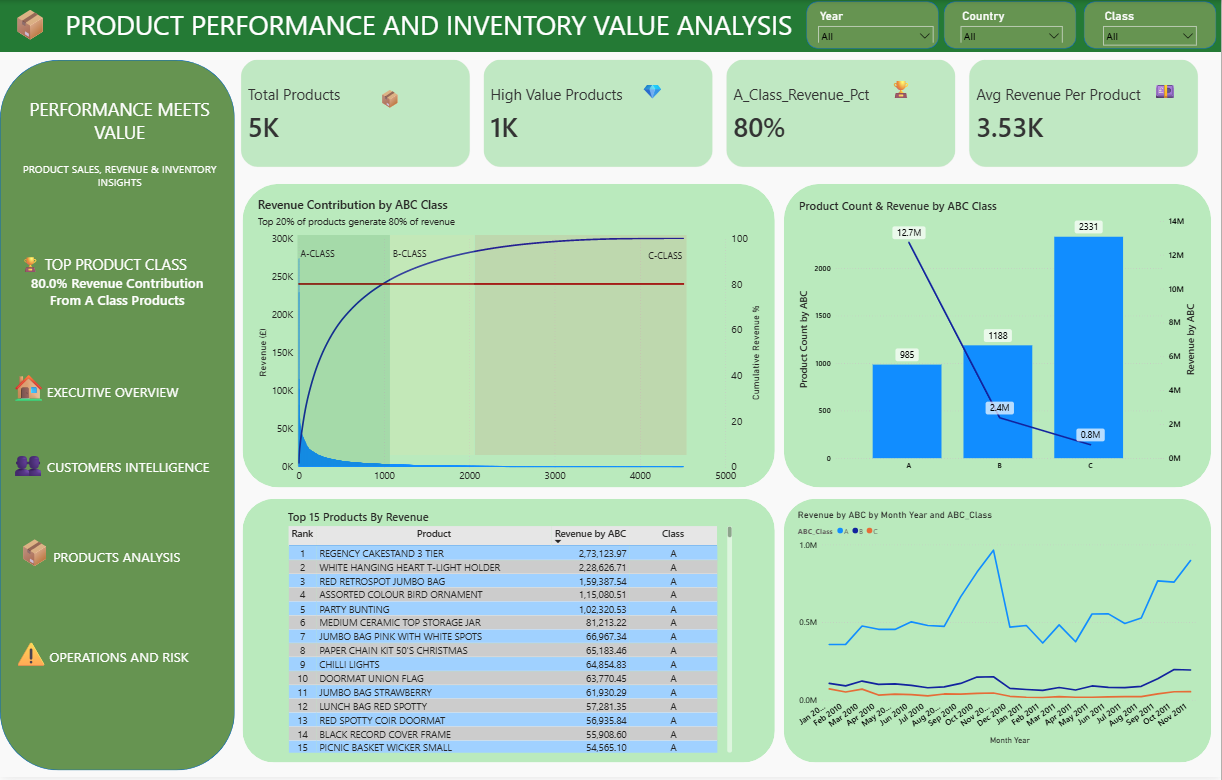

What the dashboard file says about the page in this screenshot:
{"tool":"powerbi","page":{"name":"Product Analysis","canvas":[2200,1400],"ordinal":2},"visuals":[{"type":"textbox","box":[0,0,2200.4,93.3],"z":0},{"type":"shape","box":[0,107.3,422.6,1278.7],"z":1000},{"type":"shape","box":[436.7,330.7,958.2,546.9],"z":2000},{"type":"shape","box":[436.7,898.8,958.2,474.9],"z":3000},{"type":"shape","box":[1409.7,330.7,769.5,546.9],"z":4000},{"type":"shape","box":[1411.8,898.8,769.5,474.9],"z":5000},{"type":"cardVisual","fields":{"Data":["_Measures.Total Unique Products","_Measures.High_Value_Products","_Measures.A_Class_Revenue_Pct","_Measures.Avg_Revenue_Per_Product"]},"box":[422.6,96.3,1745,214.6],"z":6000},{"type":"lineClusteredColumnComboChart","title":"Revenue Contribution by ABC Class","fields":{"Category":["vw_Product_ABC_Analysis.Product_Rank"],"Y":["Sum(vw_Product_ABC_Analysis.Total_Spent)"],"Y2":["Sum(vw_Product_ABC_Analysis.Cumulative_Percentages)","Dim_Date.Pareto 80% Line"]},"box":[460,354,915.8,523.6],"z":7000},{"type":"textbox","box":[536.4,422.6,166.4,416],"z":8000},{"type":"textbox","box":[702.8,422.6,151.1,396.3],"z":9000},{"type":"textbox","box":[853.9,422.6,381,396.3],"z":10000},{"type":"tableEx","title":"Top 15 Products By Revenue","fields":{"Values":["vw_Product_ABC_Analysis.Product_Rank","vw_Product_ABC_Analysis.Description","Dim_Country.Revenue by ABC","vw_Product_ABC_Analysis.ABC_Class"]},"box":[512.3,915.2,810.1,444.5],"z":11000},{"type":"lineClusteredColumnComboChart","title":"Product Count & Revenue by ABC Class","fields":{"Category":["vw_Product_ABC_Analysis.ABC_Class"],"Y":["Dim_Country.Product Count by ABC"],"Y2":["Dim_Country.Revenue by ABC"]},"box":[1434.1,354.7,729.1,501.4],"z":12000},{"type":"textbox","box":[30.7,168.6,367.8,118.2],"z":13000},{"type":"textbox","box":[30.7,286.8,367.8,67.9],"z":14000},{"type":"textbox","box":[17.5,1134.2,372.2,96.3],"z":15000},{"type":"textbox","box":[24.1,954.6,356.9,94.1],"z":16000},{"type":"textbox","box":[14.5,792.5,410.8,93.4],"z":17000},{"type":"textbox","box":[14.5,657.7,373.4,83],"z":18000},{"type":"textbox","box":[30.7,453.2,359.1,120.4],"z":19000},{"type":"shape","box":[1451.6,2.2,238.7,85.4],"z":20000},{"type":"shape","box":[1699,2.2,238.7,85.4],"z":21000},{"type":"shape","box":[1950.8,2.2,238.7,85.4],"z":22000},{"type":"slicer","fields":{"Values":["Dim_Date.Year"]},"box":[1462.6,10.9,227.7,65.7],"z":23000},{"type":"slicer","fields":{"Values":["Dim_Country.Country"]},"box":[1718.8,10.9,203.6,65.7],"z":24000},{"type":"slicer","fields":{"Values":["vw_Product_ABC_Analysis.ABC_Class"]},"box":[1974.9,10.9,188.3,76.6],"z":25000},{"type":"textbox","box":[674.4,133.6,56.9,70.1],"z":26000},{"type":"textbox","box":[1147.3,133.6,63.5,70.1],"z":27000},{"type":"textbox","box":[1596.1,133.6,76.6,70.1],"z":28000},{"type":"textbox","box":[2069.1,133.6,76.6,70.1],"z":29000},{"type":"lineChart","fields":{"Category":["Dim_Date.Month Year"],"Series":["vw_Product_ABC_Analysis.ABC_Class"],"Y":["Dim_Country.Revenue by ABC"]},"box":[1431,915.7,729,429.7],"z":30000}]}

Visuals, with their boxes in screenshot pixels (x1, y1, x2, y2), scaled from the page's 2200x1400 canvas onto the 1222x780 screenshot:
textbox: (0,0,1221,52)
shape: (0,60,235,772)
shape: (243,184,775,489)
shape: (243,501,775,765)
shape: (783,184,1210,489)
shape: (784,501,1212,765)
cardVisual - _Measures.Total Unique Products x _Measures.High_Value_Products: (235,54,1204,173)
"Revenue Contribution by ABC Class" lineClusteredColumnComboChart: (256,197,764,489)
textbox: (298,235,390,467)
textbox: (390,235,474,456)
textbox: (474,235,686,456)
"Top 15 Products By Revenue" tableEx: (285,510,735,758)
"Product Count & Revenue by ABC Class" lineClusteredColumnComboChart: (797,198,1202,477)
textbox: (17,94,221,160)
textbox: (17,160,221,198)
textbox: (10,632,216,686)
textbox: (13,532,212,584)
textbox: (8,442,236,494)
textbox: (8,366,215,413)
textbox: (17,252,217,320)
shape: (806,1,939,49)
shape: (944,1,1076,49)
shape: (1084,1,1216,49)
slicer - Dim_Date.Year: (812,6,939,43)
slicer - Dim_Country.Country: (955,6,1068,43)
slicer - vw_Product_ABC_Analysis.ABC_Class: (1097,6,1202,49)
textbox: (375,74,406,113)
textbox: (637,74,673,113)
textbox: (887,74,929,113)
textbox: (1149,74,1192,113)
lineChart - Dim_Date.Month Year x vw_Product_ABC_Analysis.ABC_Class: (795,510,1200,750)
